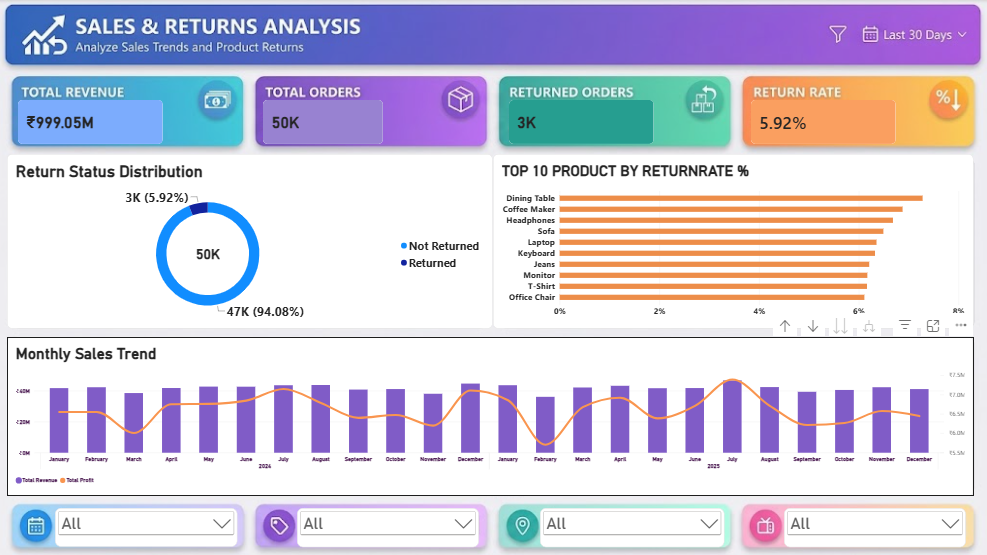

This screenshot's page, from the dashboard's own definition file:
{"tool":"powerbi","page":{"name":"Sales & Returns Analysis","canvas":[1920,1080],"ordinal":3},"visuals":[{"type":"cardVisual","fields":{"Data":["retail_sales_cleaned.Total Revenue"]},"box":[40,195,280,85],"z":0},{"type":"cardVisual","fields":{"Data":["retail_sales_cleaned.Total Orders"]},"box":[515,195,232.5,85],"z":1000},{"type":"cardVisual","fields":{"Data":["retail_sales_cleaned.Returned Orders"]},"box":[990,195,280,85],"z":2000},{"type":"cardVisual","fields":{"Data":["retail_sales_cleaned.Return Rate %"]},"box":[1460,195,280,85],"z":3000},{"type":"donutChart","title":"Return Status Distribution","fields":{"Category":["retail_sales_cleaned.Return_Status"],"Y":["retail_sales_cleaned.Total Orders"]},"box":[20,300,940,337.5],"z":4000},{"type":"clusteredBarChart","title":"TOP 10 PRODUCT BY RETURNRATE %","fields":{"Category":["retail_sales_cleaned.Product_Name"],"Y":["retail_sales_cleaned.Return Rate %"]},"box":[960,300,930,337.5],"z":5000},{"type":"lineClusteredColumnComboChart","title":"Monthly Sales Trend","fields":{"Category":["retail_sales_cleaned.Month_Year.Variation.Date Hierarchy.Year","retail_sales_cleaned.Month_Year.Variation.Date Hierarchy.Month"],"Y":["retail_sales_cleaned.Total Revenue"],"Y2":["retail_sales_cleaned.Total Profit"]},"box":[20,655,1870,307.5],"z":6000},{"type":"slicer","fields":{"Values":["retail_sales_cleaned.Year"]},"box":[112.5,985,352.5,75],"z":7000},{"type":"slicer","fields":{"Values":["retail_sales_cleaned.Category"]},"box":[581,984.5,351.7,75.9],"z":8000},{"type":"slicer","fields":{"Values":["retail_sales_cleaned.Location"]},"box":[1051.7,984.5,356.9,75.9],"z":9000},{"type":"slicer","fields":{"Values":["retail_sales_cleaned.Order_Channel"]},"box":[1524.1,984.5,351.7,75.9],"z":10000}]}

Visuals, with their boxes in screenshot pixels (x1, y1, x2, y2), scaled from the page's 1920x1080 canvas onto the 987x555 screenshot:
cardVisual - retail_sales_cleaned.Total Revenue: [left=21, top=100, right=164, bottom=144]
cardVisual - retail_sales_cleaned.Total Orders: [left=265, top=100, right=384, bottom=144]
cardVisual - retail_sales_cleaned.Returned Orders: [left=509, top=100, right=653, bottom=144]
cardVisual - retail_sales_cleaned.Return Rate %: [left=751, top=100, right=894, bottom=144]
"Return Status Distribution" donutChart: [left=10, top=154, right=494, bottom=328]
"TOP 10 PRODUCT BY RETURNRATE %" clusteredBarChart: [left=494, top=154, right=972, bottom=328]
"Monthly Sales Trend" lineClusteredColumnComboChart: [left=10, top=337, right=972, bottom=495]
slicer - retail_sales_cleaned.Year: [left=58, top=506, right=239, bottom=545]
slicer - retail_sales_cleaned.Category: [left=299, top=506, right=479, bottom=545]
slicer - retail_sales_cleaned.Location: [left=541, top=506, right=724, bottom=545]
slicer - retail_sales_cleaned.Order_Channel: [left=783, top=506, right=964, bottom=545]
